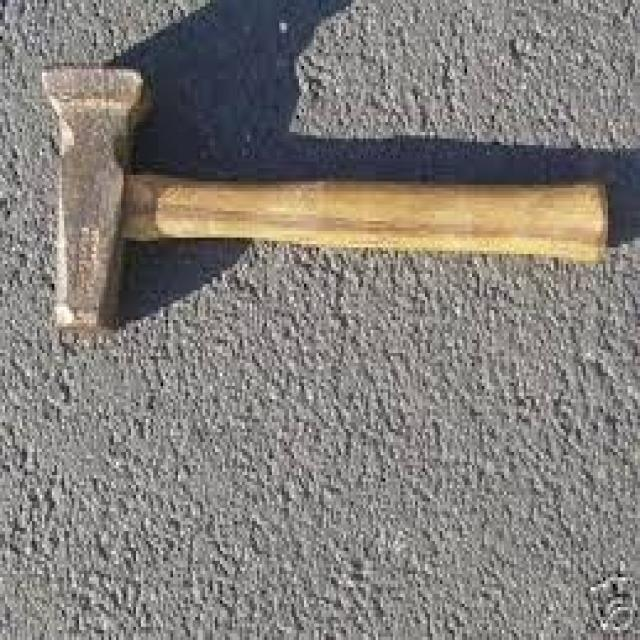hammer: (31, 58, 612, 328)
